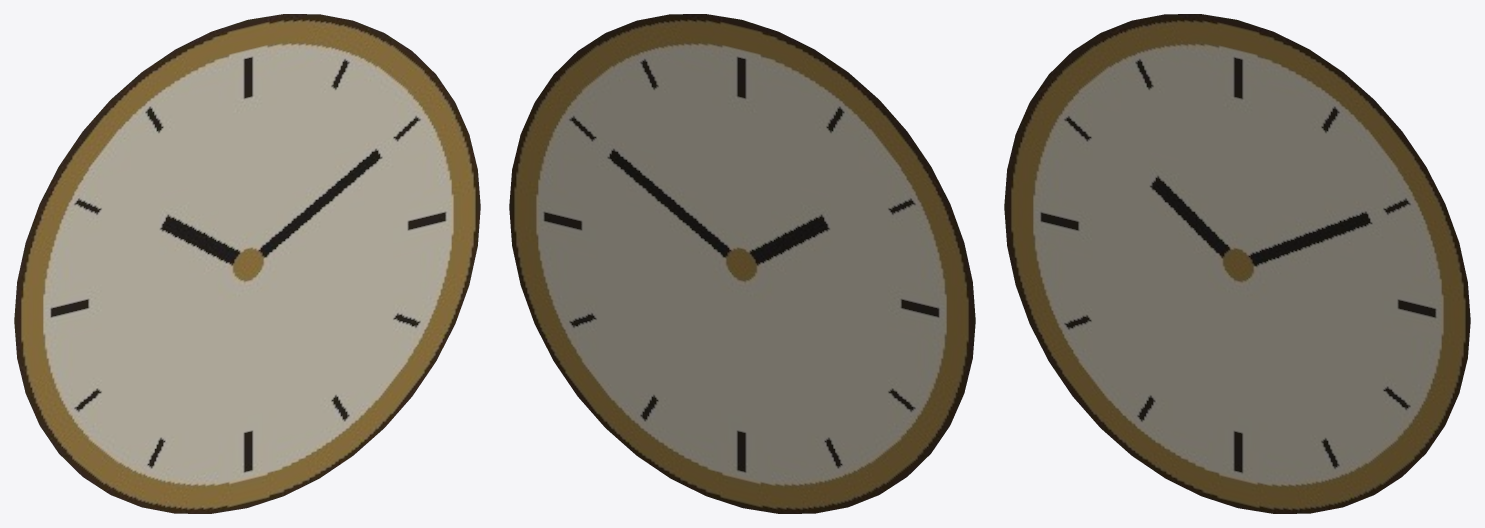
File: SM_dw_clock.glb
The picture shows the model from 3 angles, left to right: view 1: azimuth 30°, elevation 25°; view 2: azimuth 150°, elevation 25°; view 3: azimuth 330°, elevation 25°; orthographic projection.
Parts seen in each view (by area): view 1: SM_dw_clock; view 2: SM_dw_clock; view 3: SM_dw_clock.
Boxes of the visible parts, x1=… form: SM_dw_clock: x1=14, y1=14, x2=480, y2=513; SM_dw_clock: x1=509, y1=14, x2=975, y2=513; SM_dw_clock: x1=1004, y1=14, x2=1470, y2=513.
Bounding box in the file's own units: 2 × 2 × 0.
Materials: 1 (1 with a texture image).
